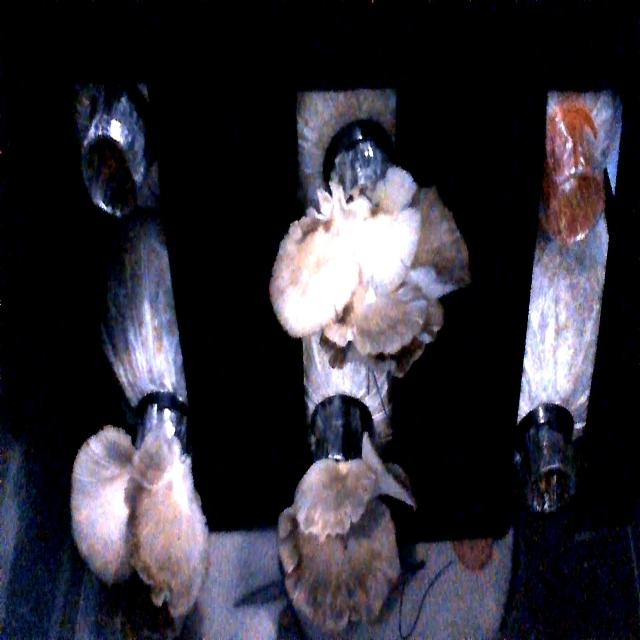big: (269, 154, 459, 388), (65, 396, 233, 612), (255, 427, 421, 639)
nfound: (69, 107, 175, 264), (531, 130, 616, 264), (514, 432, 580, 552)
